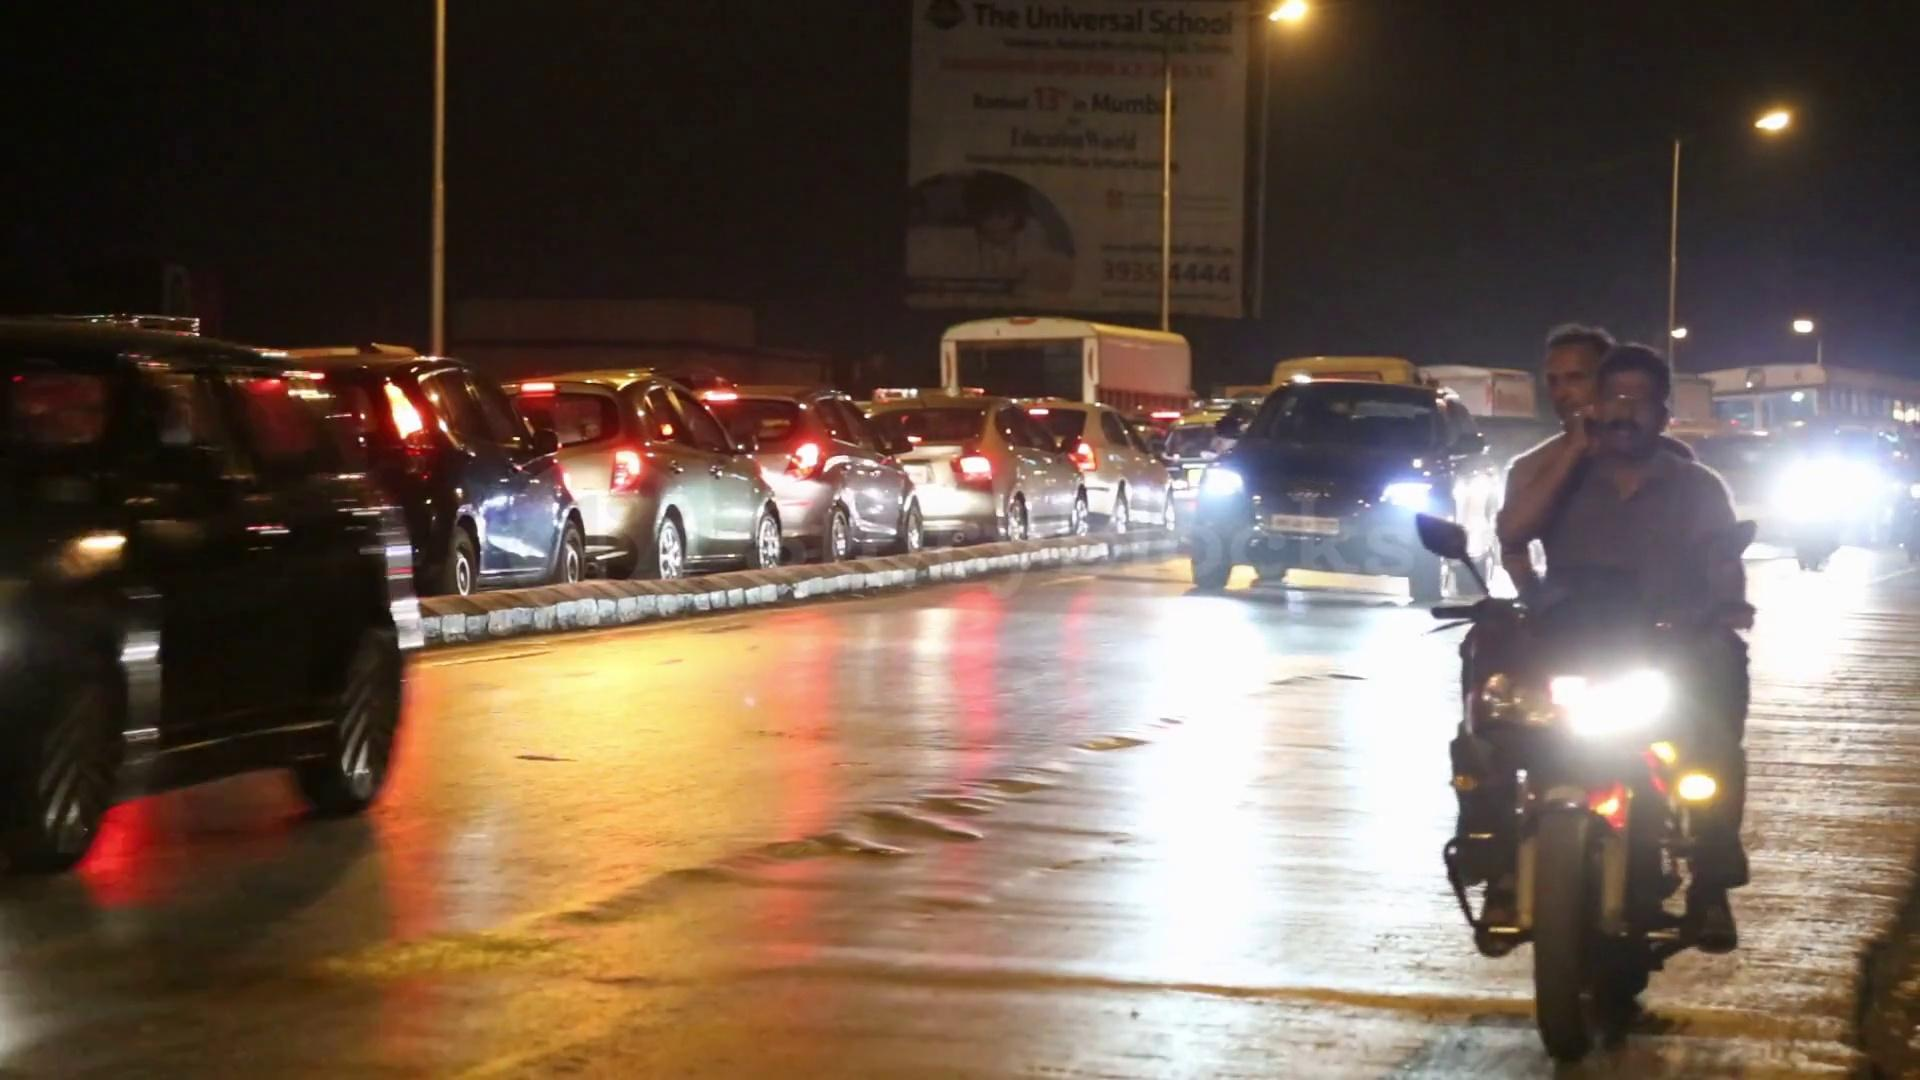rider: (1460, 337, 1755, 951)
without_helmate: (1583, 344, 1673, 451)
